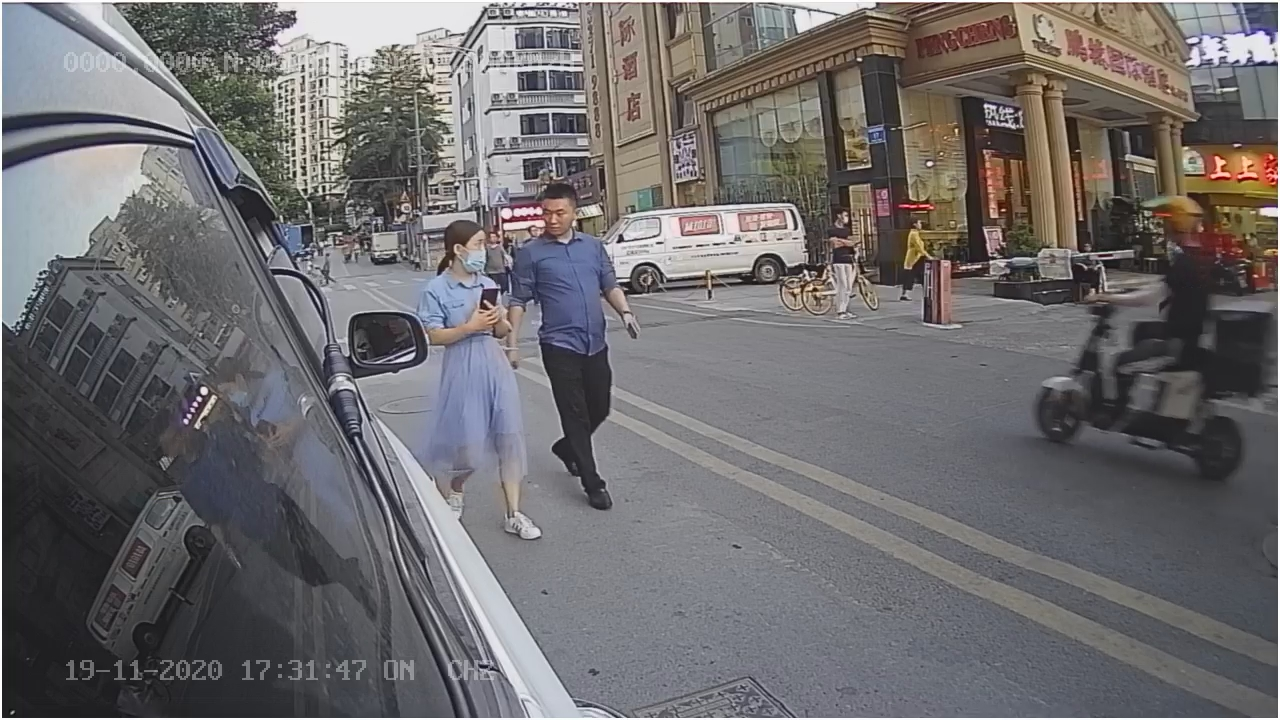person: (424, 222, 498, 326)
